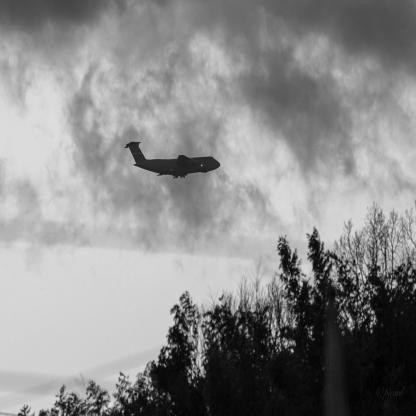C5: (125, 142, 221, 180)
